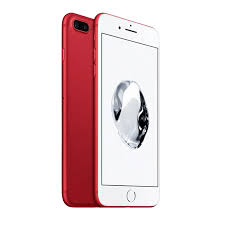iphone: (91, 10, 162, 209)
iphone7: (92, 11, 163, 210)
